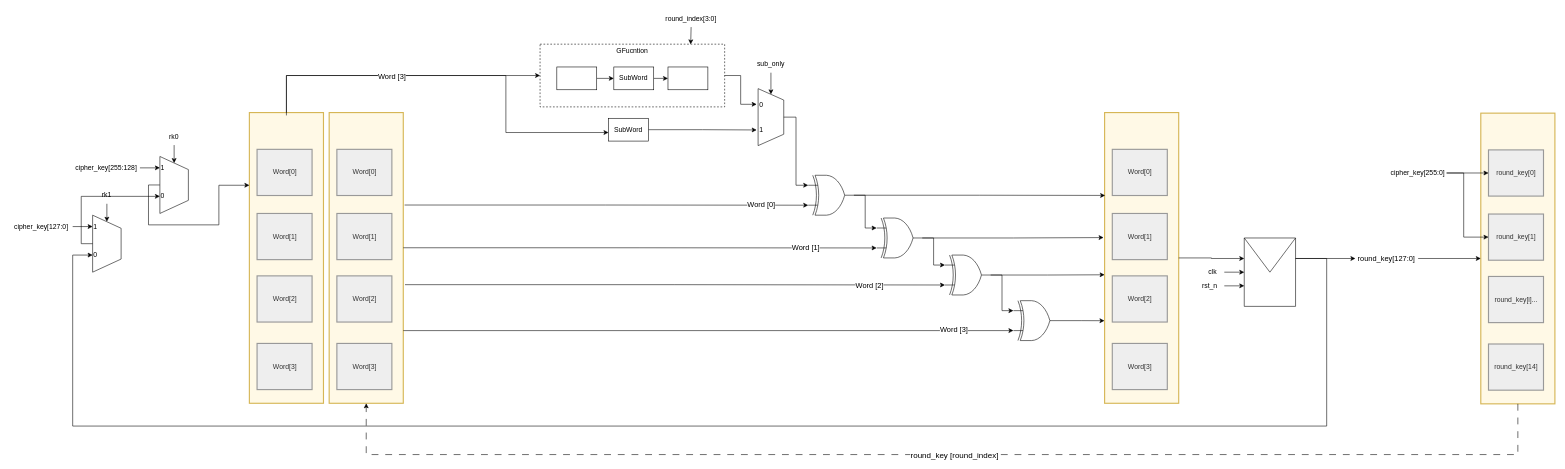
Image size: 1565x469. Some labels were removed from this diagram. Here are the shapes that lost their labels. From the top down, the box of each, then its label:
(556, 66, 597, 90): RotWord
(667, 66, 708, 90): AddRcon
(249, 112, 324, 404): current_key
(328, 112, 404, 404): prev_key
(1104, 112, 1179, 404): next_key
(1480, 112, 1555, 404): RoundKeyReg
